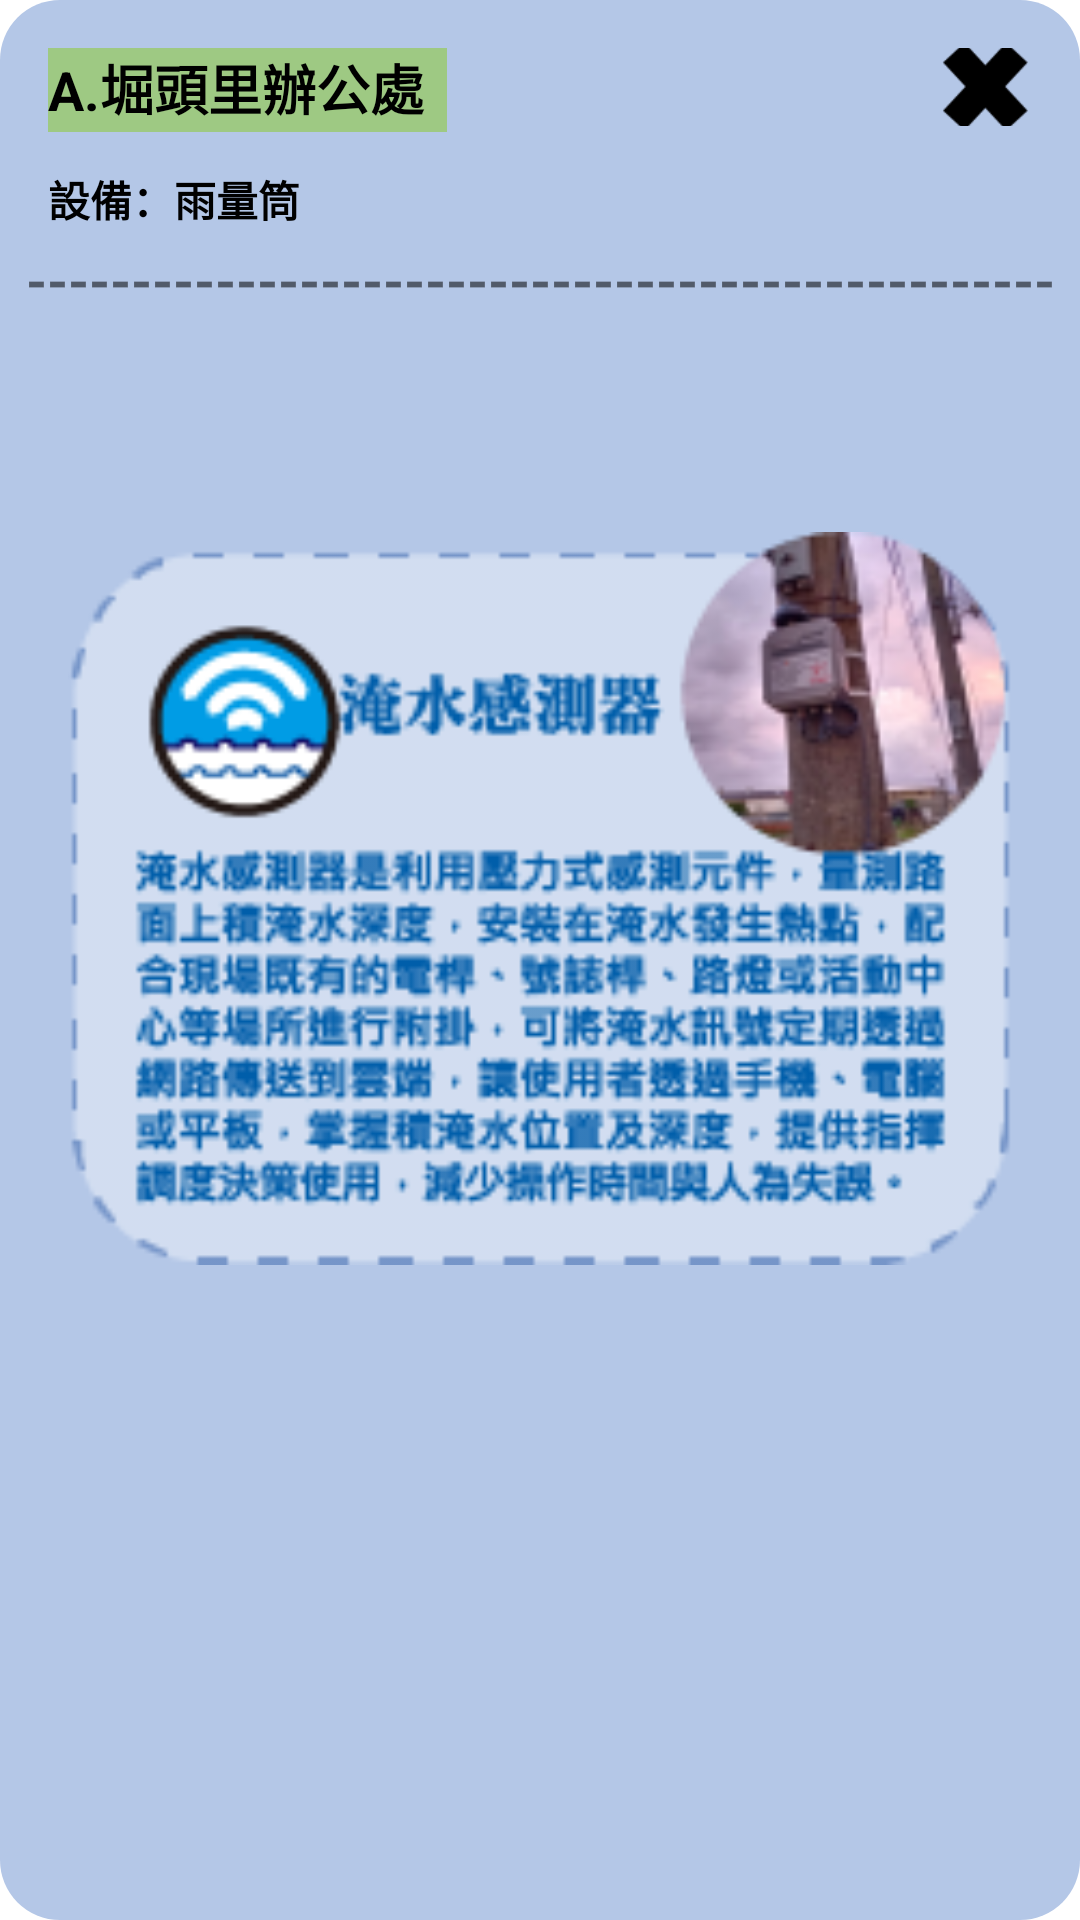

Where to tap for icons on this 1080 × 1920 app screen, as [x,y]:
close: [985,87]
